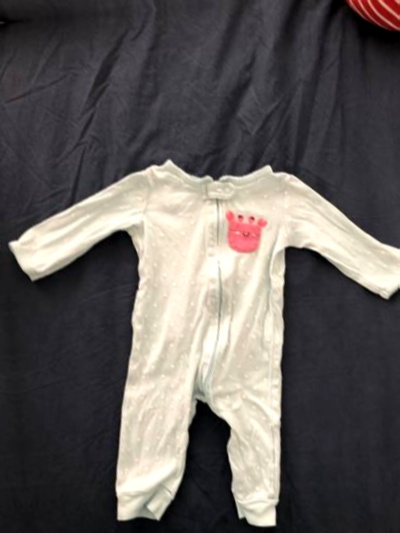Body: (2, 121, 400, 533), (0, 157, 24, 533)
